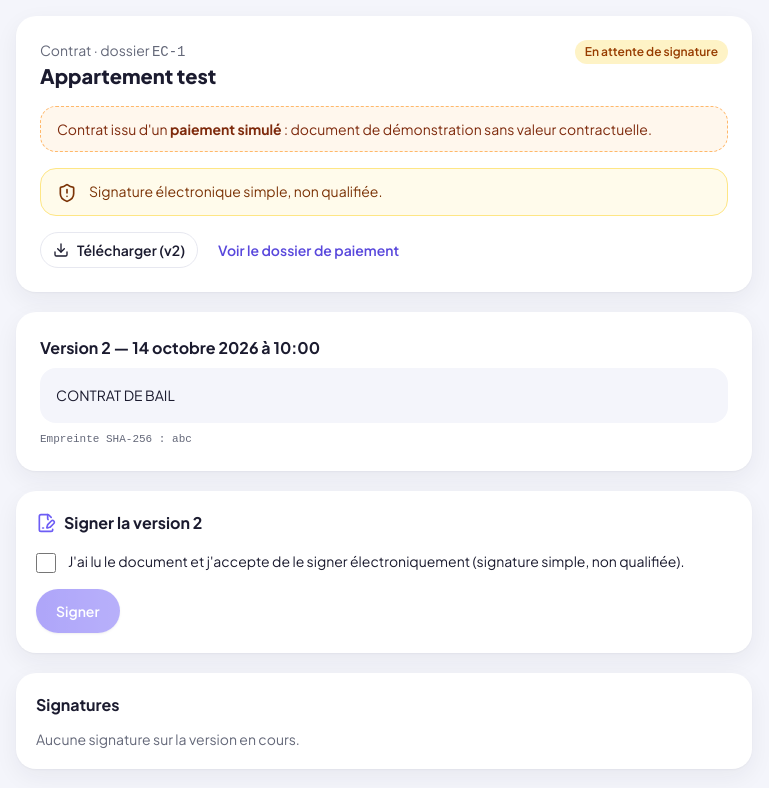
Test case: Contrat › exige le consentement et signe la version affichée
The width and height of the screenshot is (769, 788).
expect the text "paiement simulé" is shown: met, box [170, 120, 282, 138]
expect the text "Signature électronique simple, non qualifiée." is shown: met, box [89, 181, 382, 203]
Step 1. Click the checkbox → point(46, 563), box [36, 553, 56, 573]
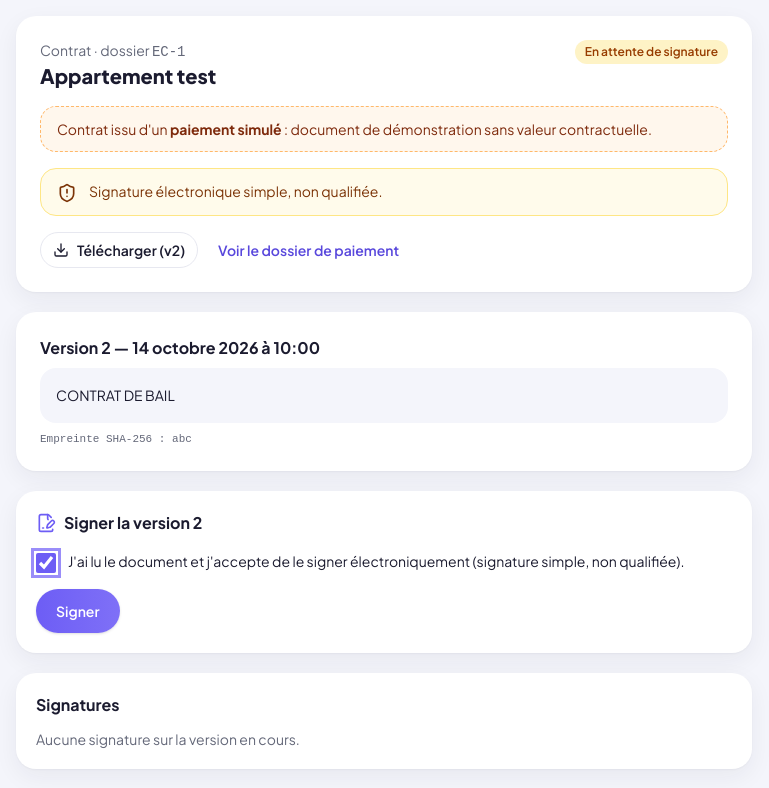
Step 2. Click the button "Signer" → point(78, 611), box [36, 589, 120, 633]
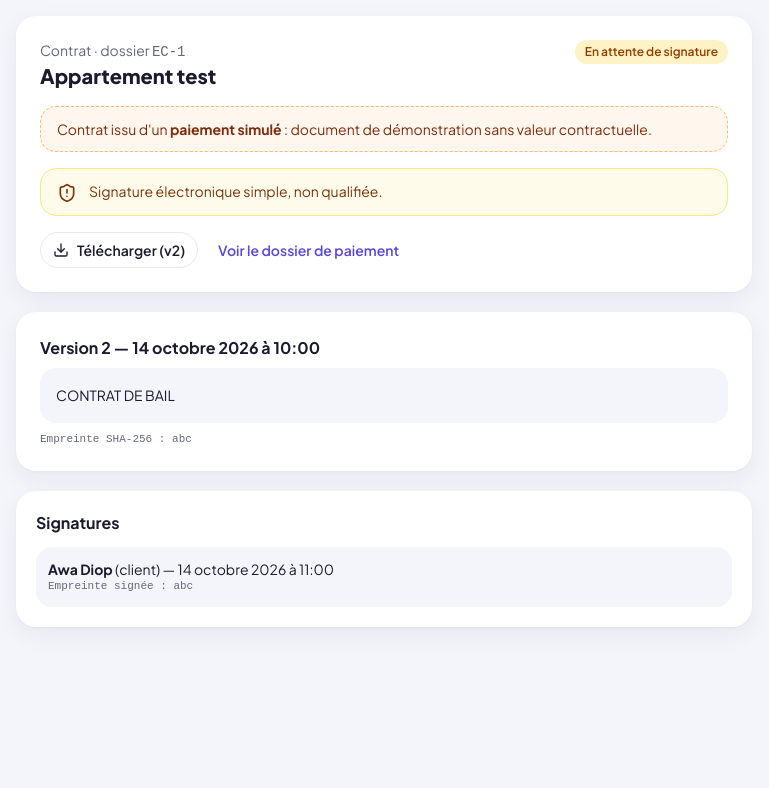
expect the text "Awa Diop" is shown: met, box [48, 560, 113, 578]
